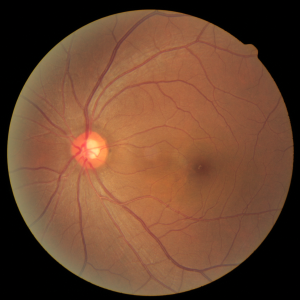healthy_eye: (30, 96, 241, 207)
